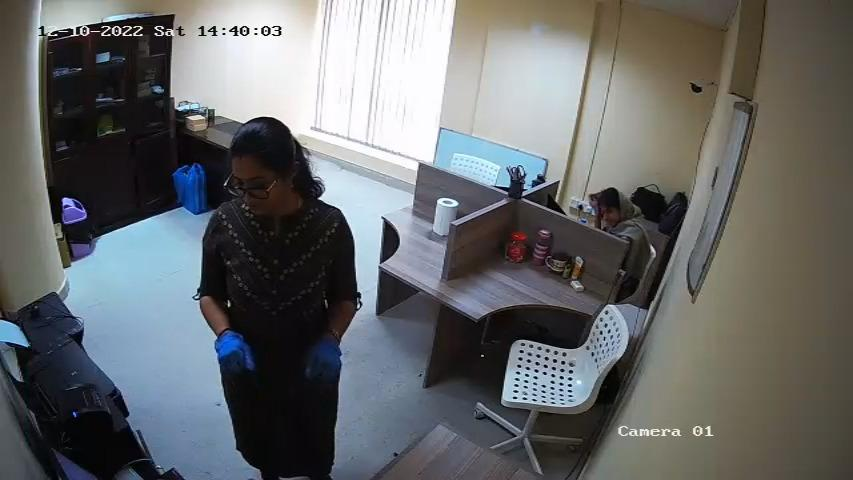gloves: (303, 337, 343, 399), (213, 329, 259, 377)
